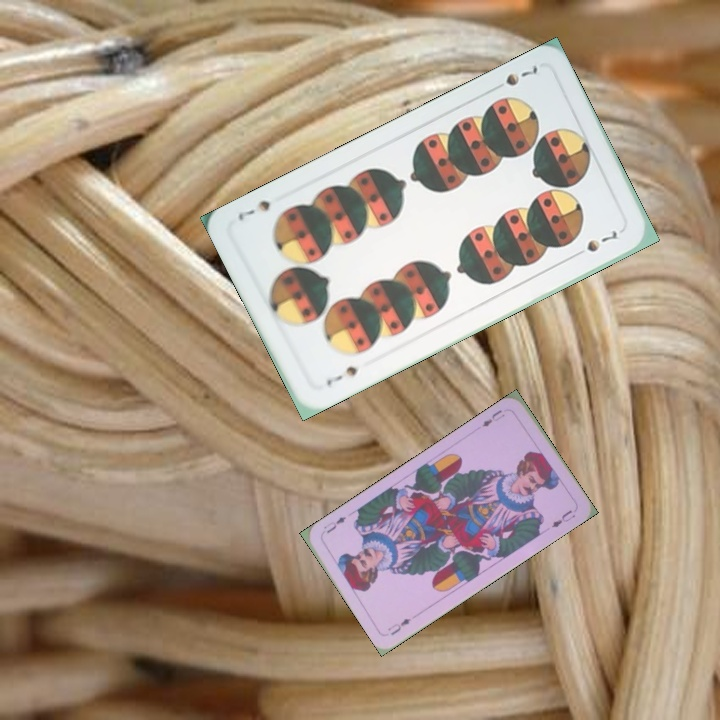EU: (478, 405, 507, 430), (384, 614, 414, 638)
S7: (322, 362, 363, 389), (502, 61, 541, 89)
